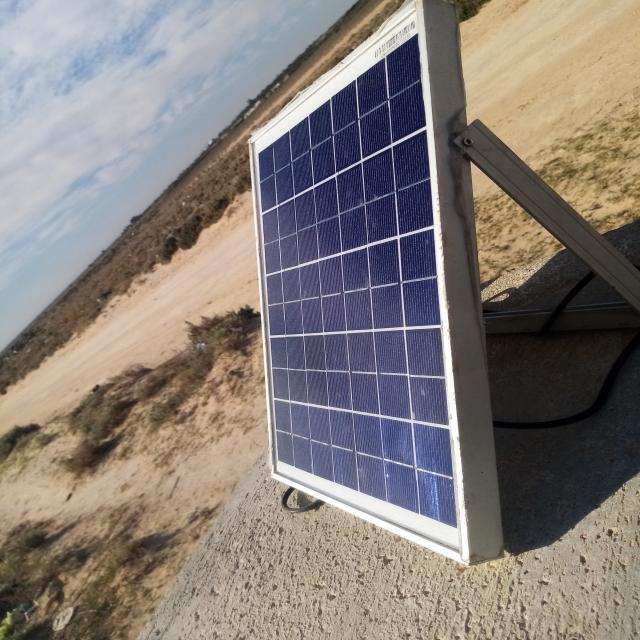no faulty: (250, 8, 470, 562)
